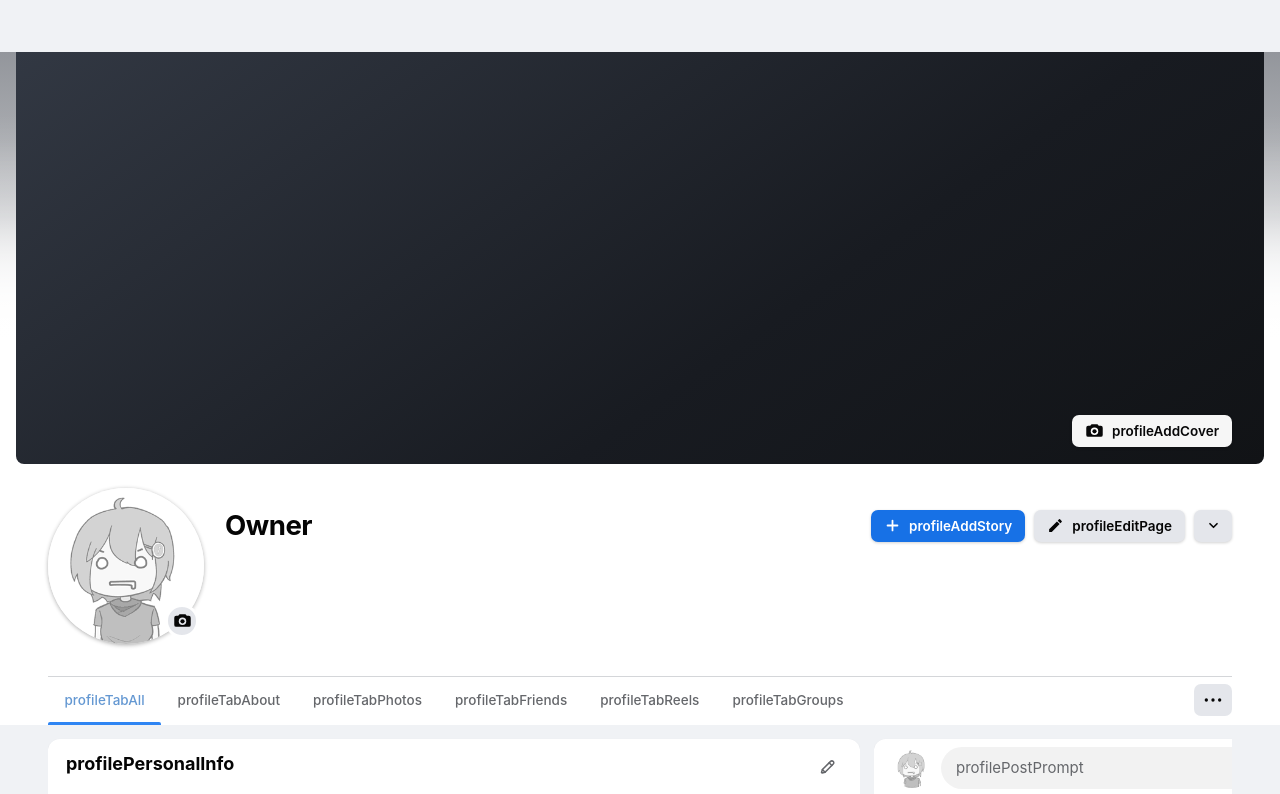
Test: ProfilePage messaging › uses the video-specific empty state when the profile video filter is empty
Click the button "profileTabPhotos".
click(368, 700)  # box [296,676,438,725]
(page scrolled)
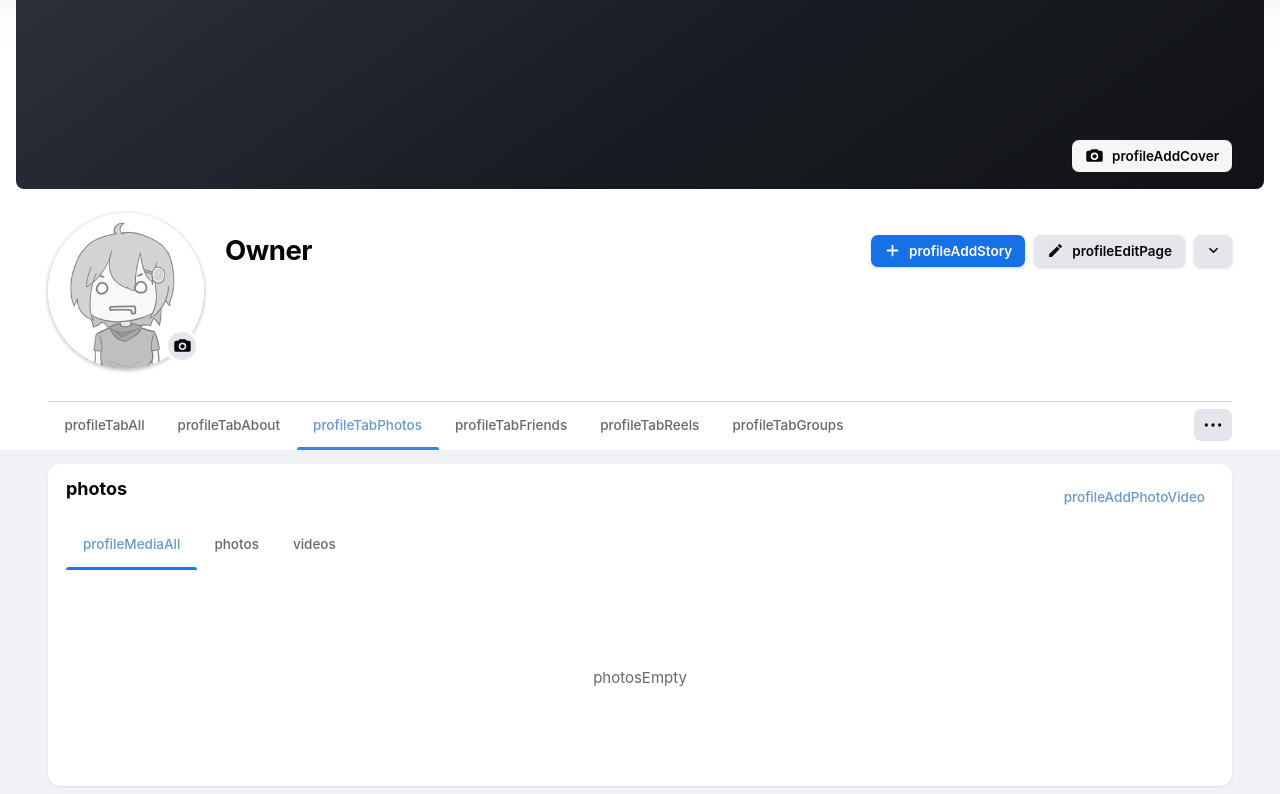
Now the text "photosEmpty" is shown, box [593,668,687,687]
Click the button "videos".
click(314, 544)  # box [276,518,353,570]
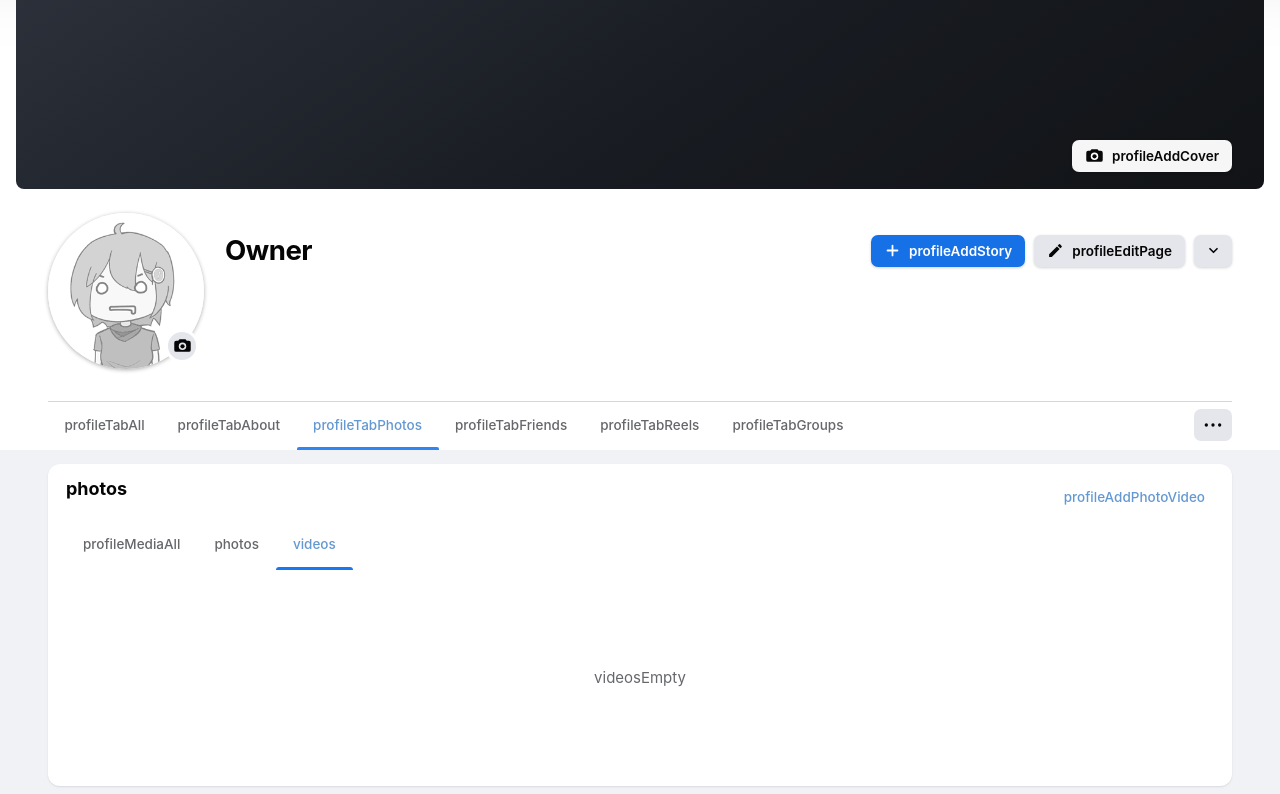
Now the text "videosEmpty" is shown, box [594,668,686,687]
Now the text "photosEmpty" is gone
